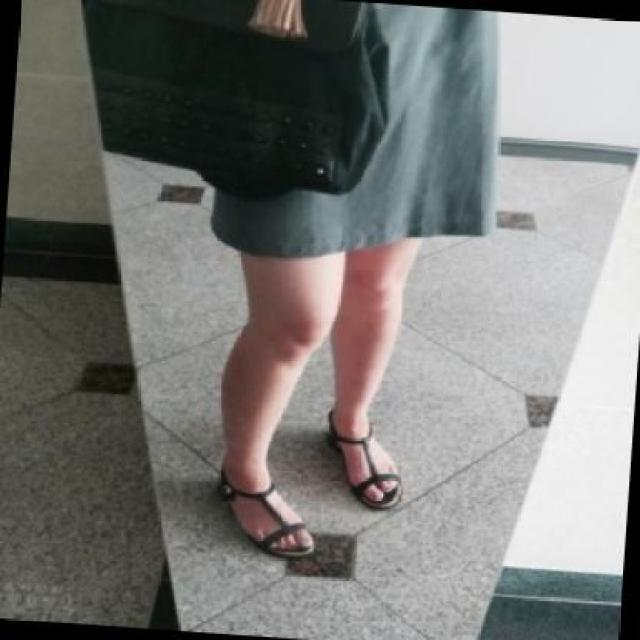Sandals: (179, 444, 326, 594), (310, 402, 439, 527)
